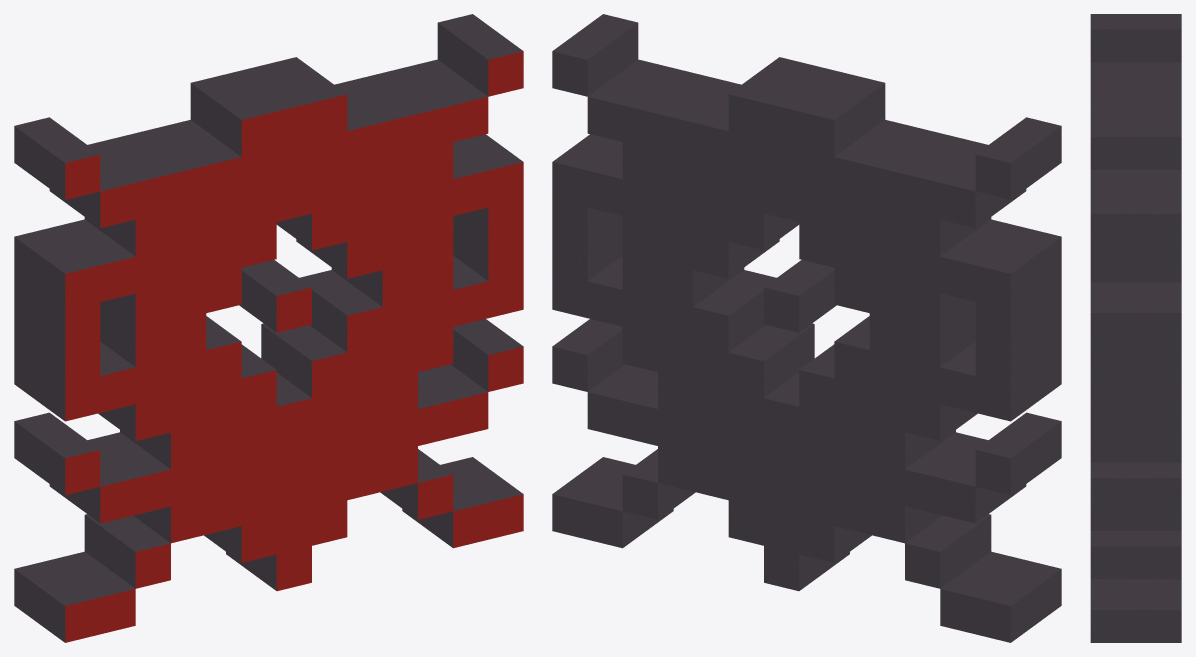
Rendered from Dave-transformed.glb.
3 views of the same model, side by side, from view 1: azimuth 30°, elevation 25°; view 2: azimuth 150°, elevation 25°; view 3: azimuth 270°, elevation 25° (orthographic). The views are drawn at different scales.
Parts seen in each view (by area): view 1: Dave; view 2: Dave; view 3: Dave.
Part boxes in pixels (x1=…): Dave: x1=14, y1=14, x2=523, y2=642; Dave: x1=552, y1=14, x2=1061, y2=642; Dave: x1=1090, y1=14, x2=1181, y2=642.
Size of the model in its own units: 3 by 3 by 0.5767.
2 materials, 2 textured.
